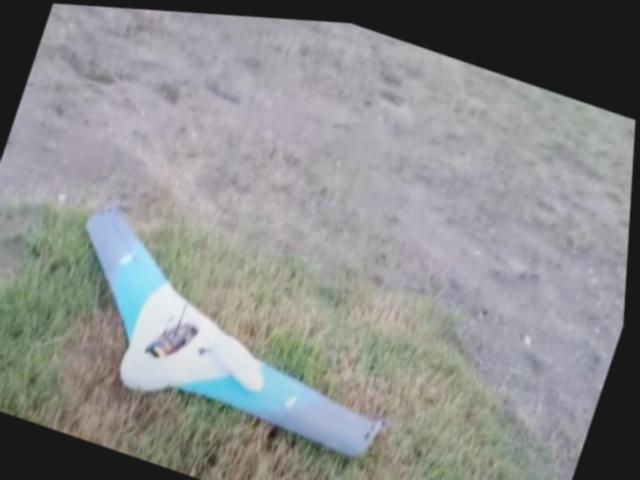iha: (44, 195, 441, 471)
